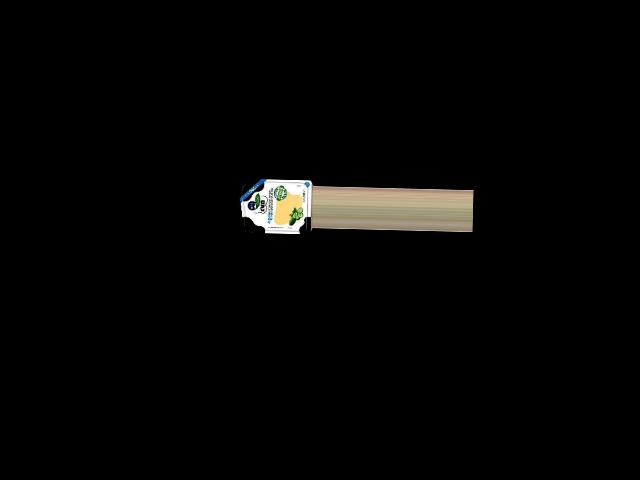cheese: (240, 175, 314, 237)
